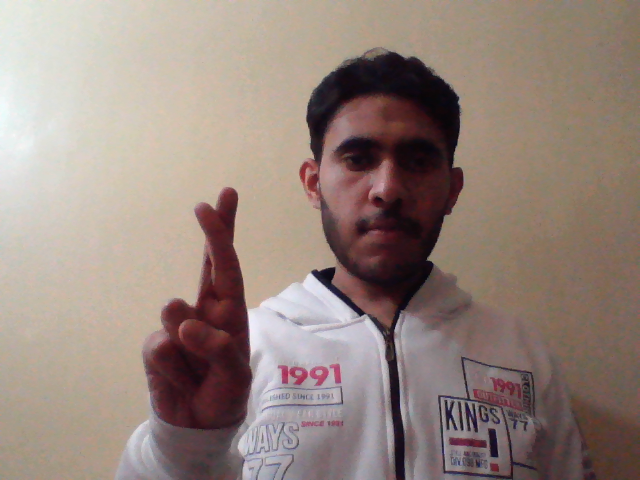R: (141, 182, 258, 438)
